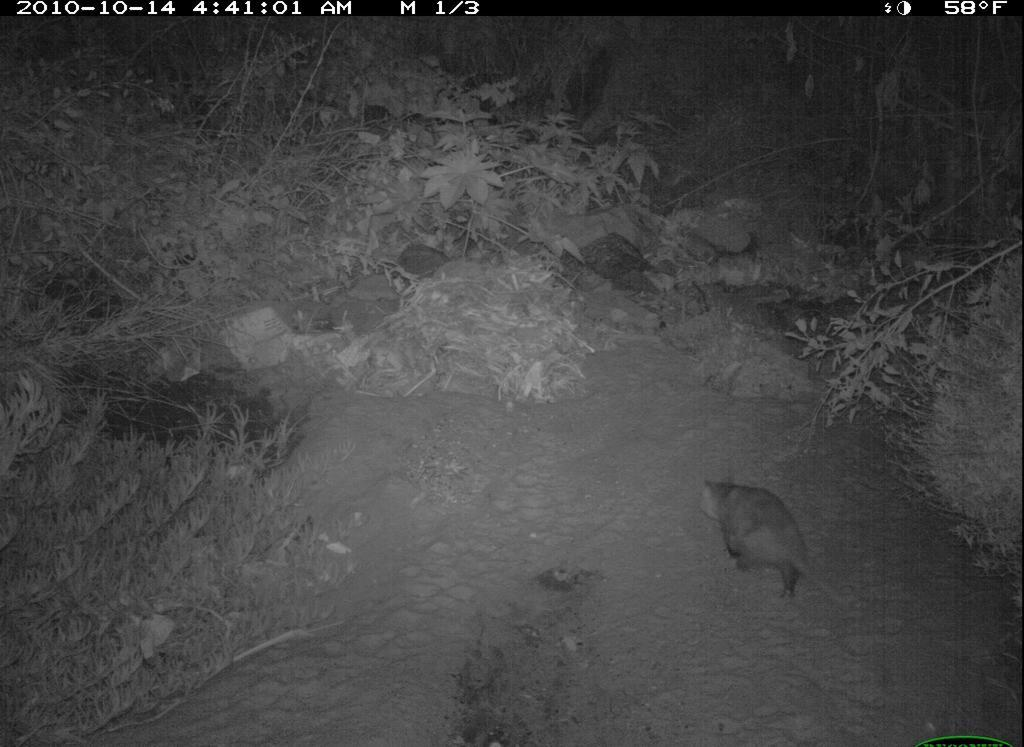opossum: (696, 473, 853, 620)
